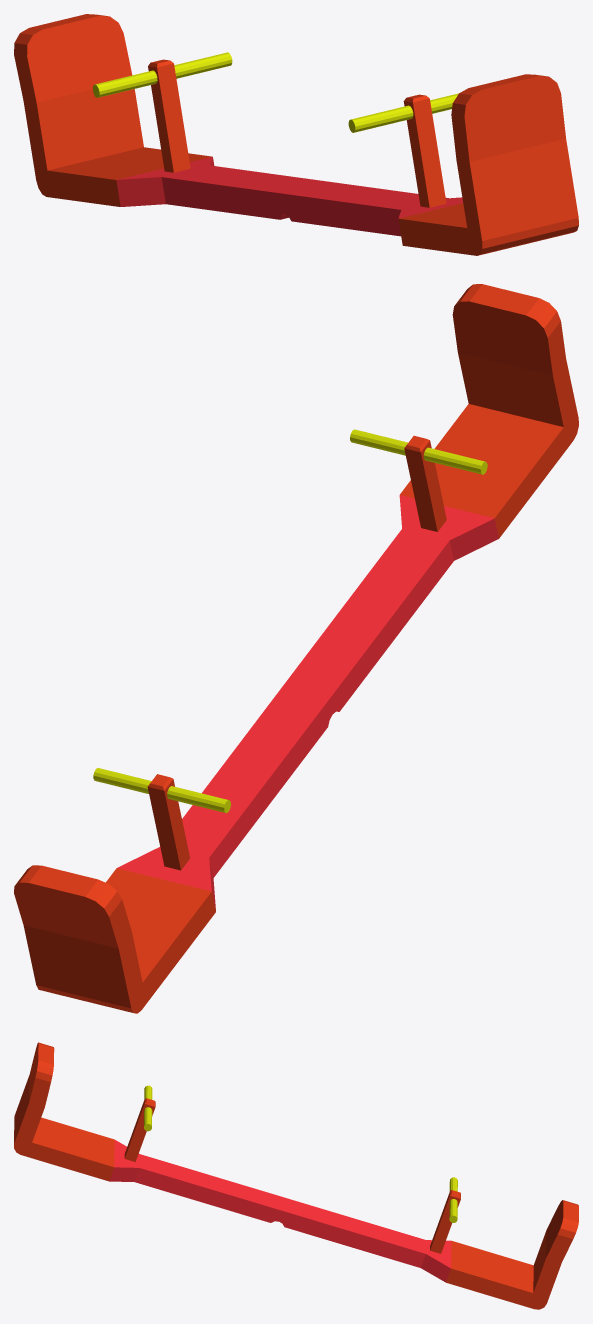
File: sube_baja_b.fbx
3 views of the same model, one above another, from view 1: azimuth 30°, elevation 25°; view 2: azimuth 150°, elevation 25°; view 3: azimuth 270°, elevation 25° (orthographic). The views are drawn at different scales.
Parts seen in each view (by area): view 1: sube_y_baja_asientos; view 2: sube_y_baja_asientos; view 3: sube_y_baja_asientos.
Part boxes in pixels (x1=…): sube_y_baja_asientos: x1=14, y1=14, x2=578, y2=255; sube_y_baja_asientos: x1=14, y1=284, x2=578, y2=1013; sube_y_baja_asientos: x1=14, y1=1042, x2=578, y2=1309.
Bounding box in the file's own units: 92.72 × 270 × 570.
